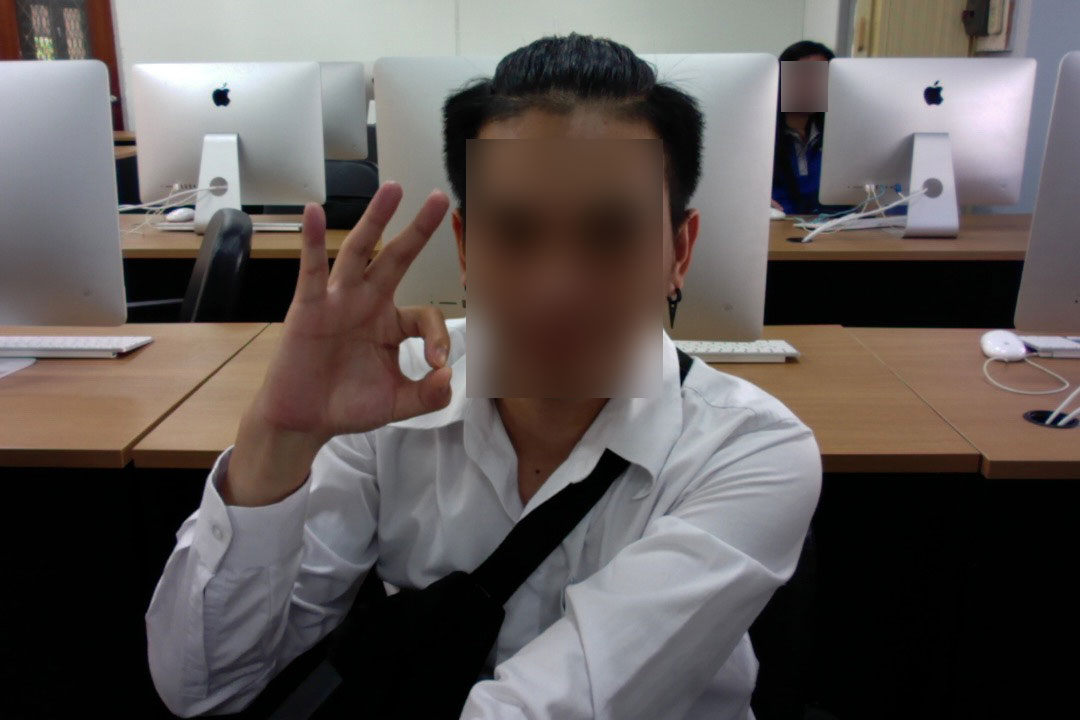for: (241, 162, 467, 476)
